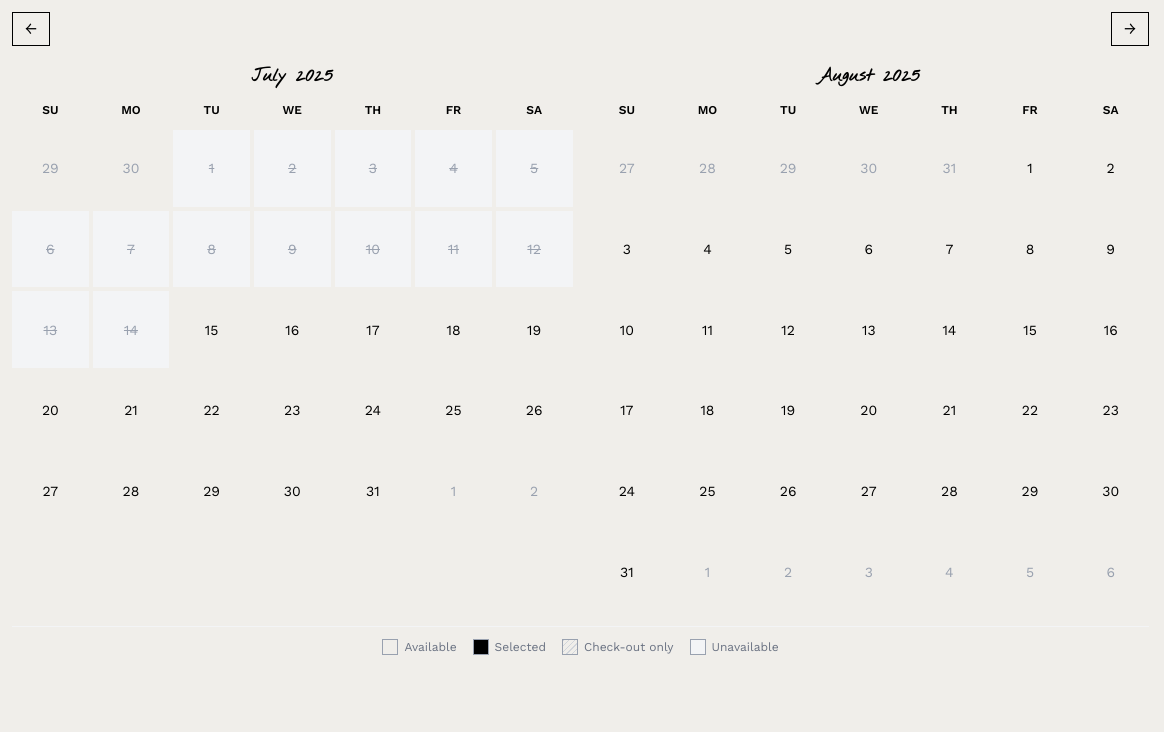
user navigates one month forward and sees new months
Click the button named "Next month": click(1130, 29) [1111,12,1149,46]
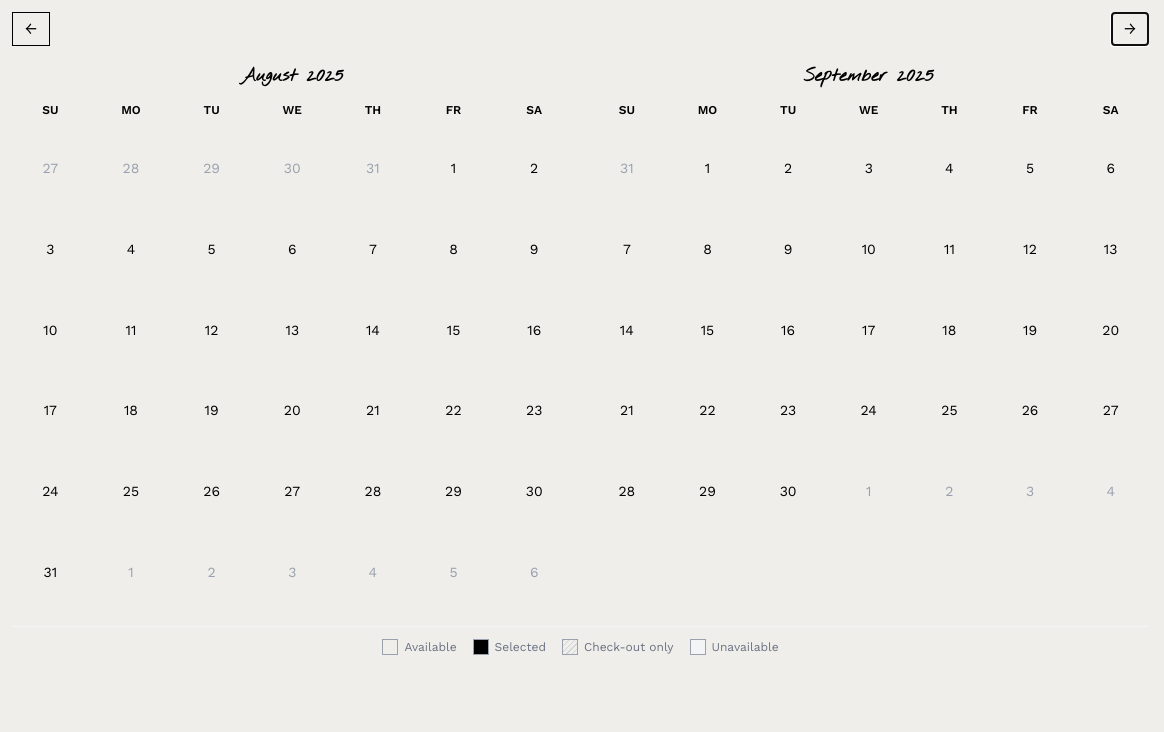
Check: the heading "August 2025" is shown, box [241,64,344,88]
Check: the heading "September 2025" is shown, box [804,64,934,88]
